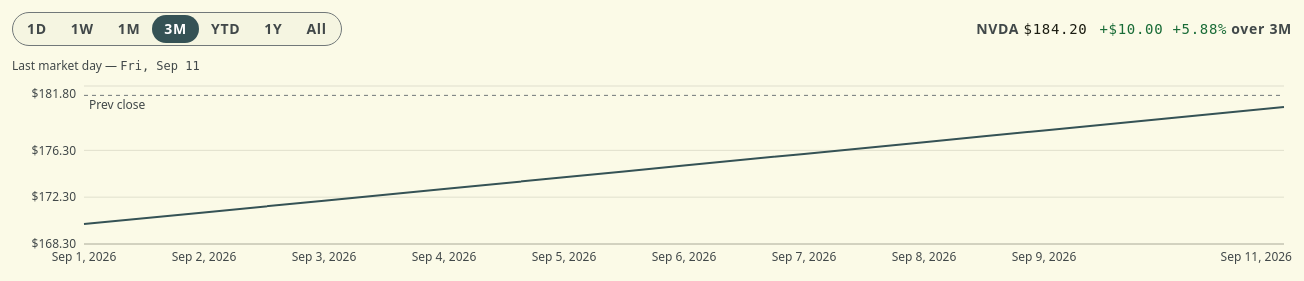
UnderlyingChart › which session is on screen › names it from the ET day an intraday bar fell on
This screenshot has width=1304, height=281.
Click the button "1D".
click(37, 29)  # box [15,15,59,43]
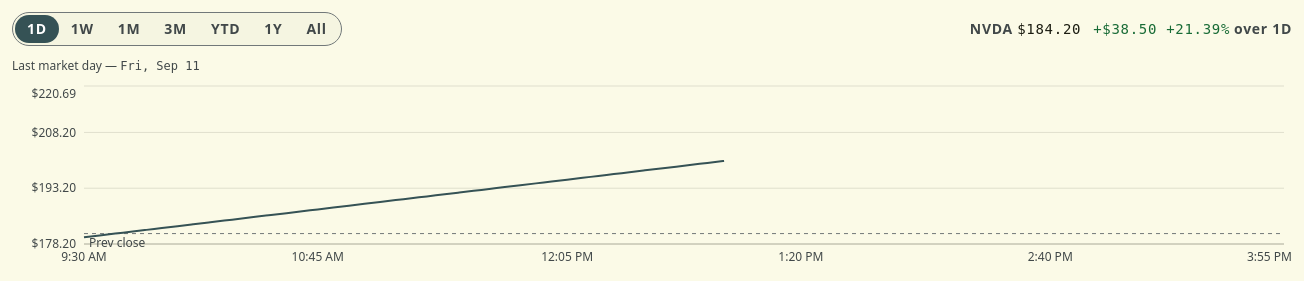
Expected: the text "Last market day — Fri, Sep 11" is shown, [12,57,200,74]
Expected: the text "over 1D" is shown, [1234,19,1292,38]
